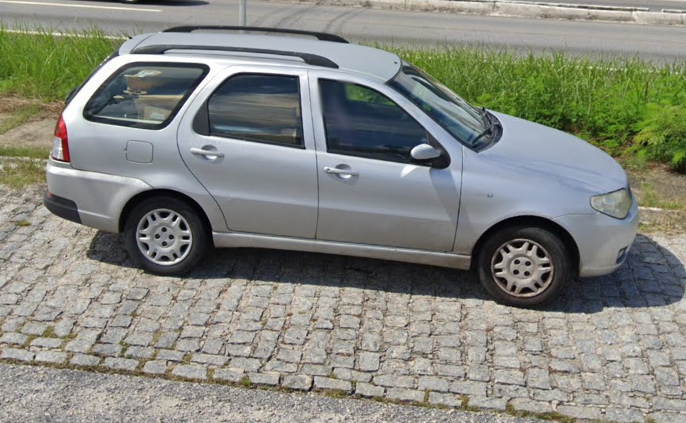car: (41, 20, 642, 311)
